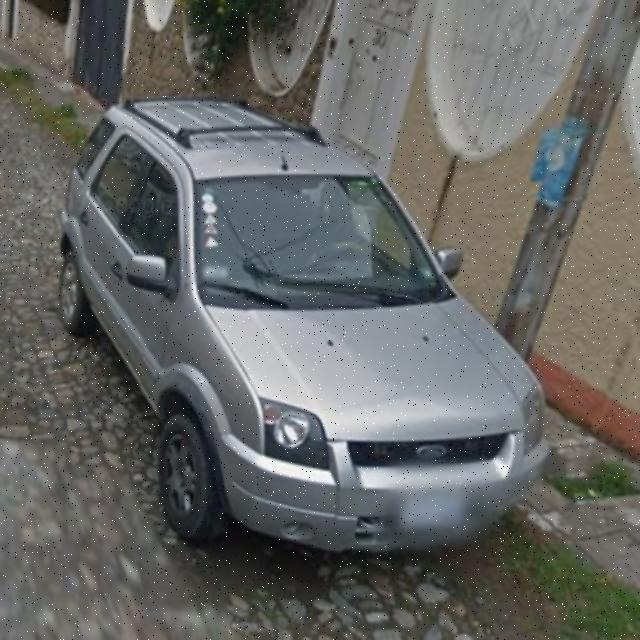cars: (65, 88, 558, 562)
